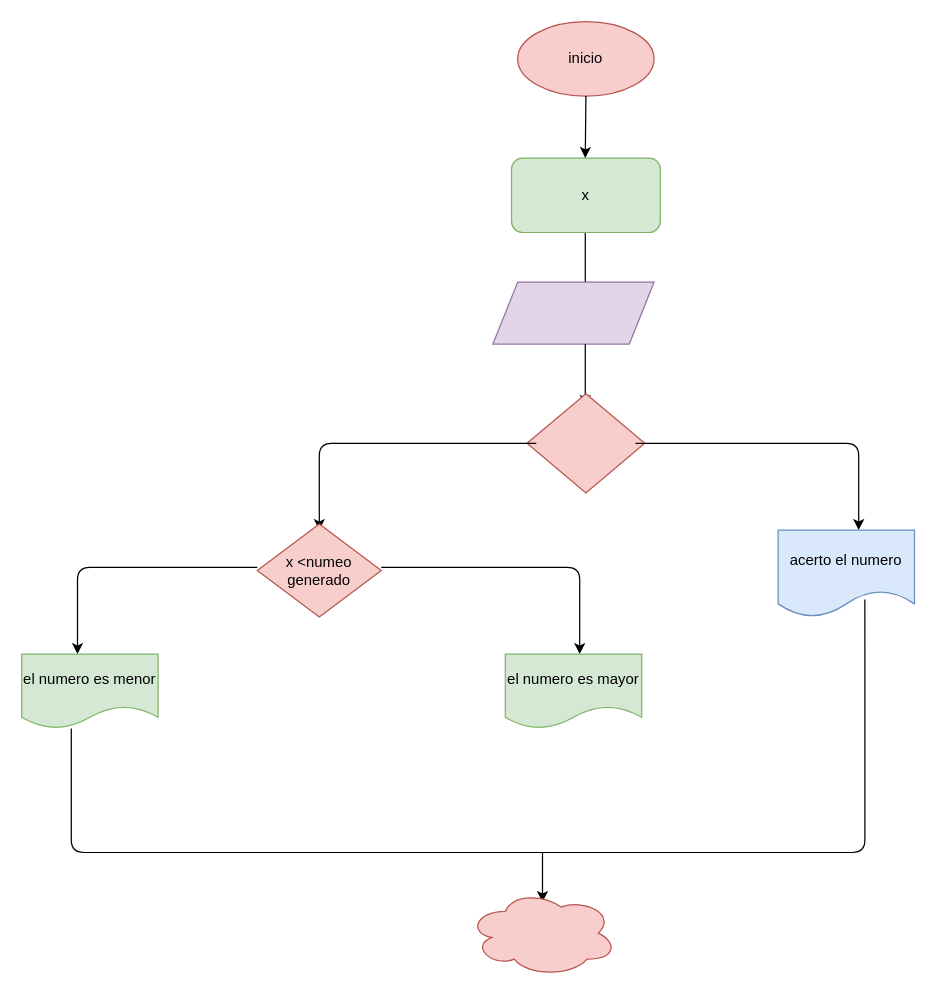
The diagram is 936 pixels wide and 998 high, and some of its shapes have lost their labels. Here are the shapes that lost their labels. From the top down, the box of each, then its label:
(492, 281, 654, 344): genera un numero aleatorio
(526, 392, 645, 493): x==numero generado
(467, 888, 617, 976): fin
